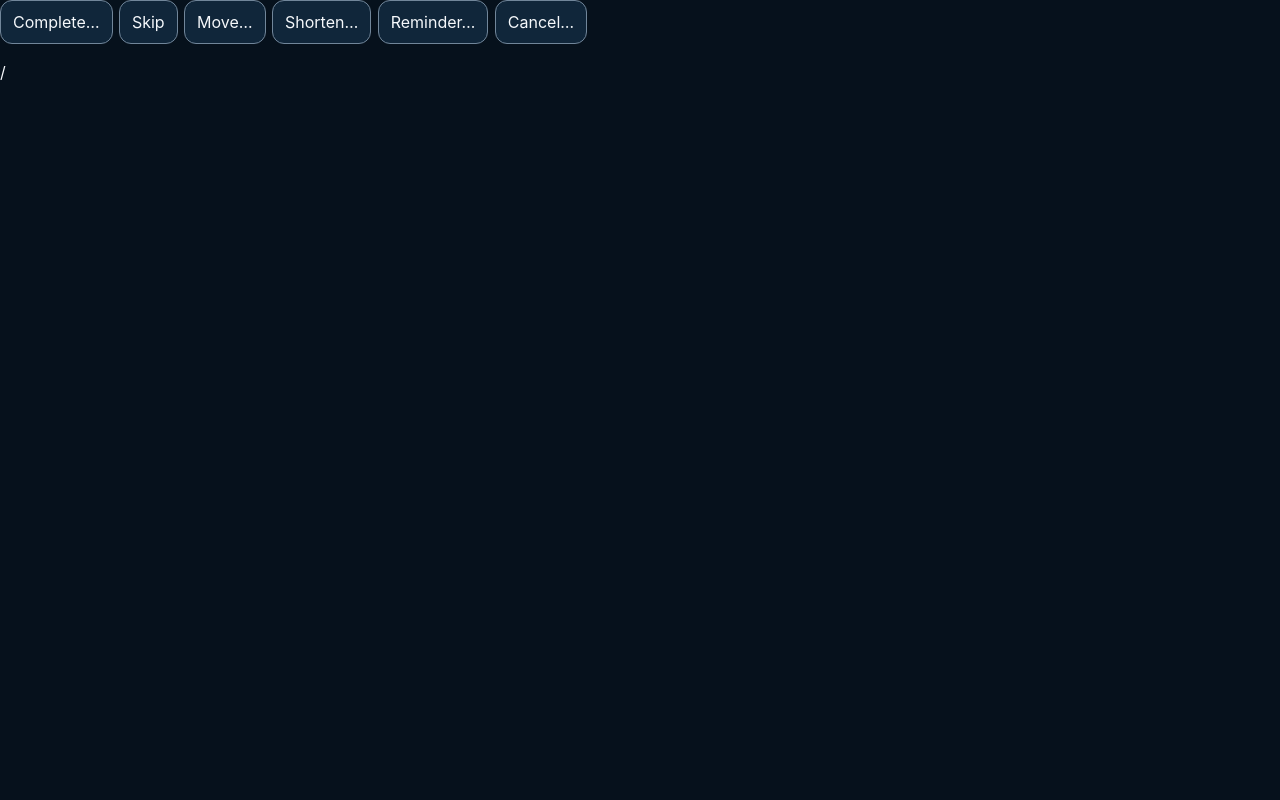
Test case: block reminder dialog › shows a recoverable error when the reminder cannot be read
This screenshot has width=1280, height=800.
Click the button named "Reminder… Write report" at (433, 22), box [378, 0, 488, 44]
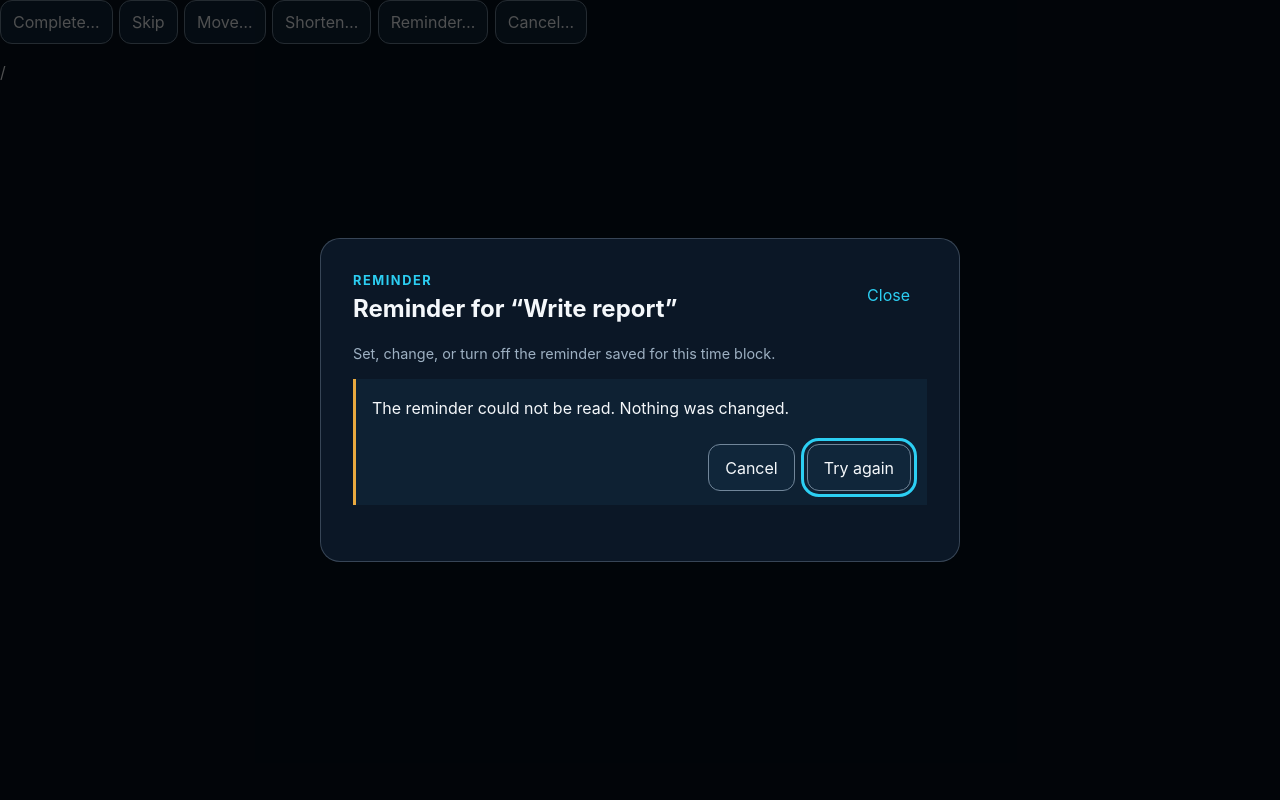
Result: the message shows "The reminder could not be read. Nothing was changed." at [372, 398, 789, 418]
Click the button "Try again" at (859, 468), box [807, 444, 911, 491]
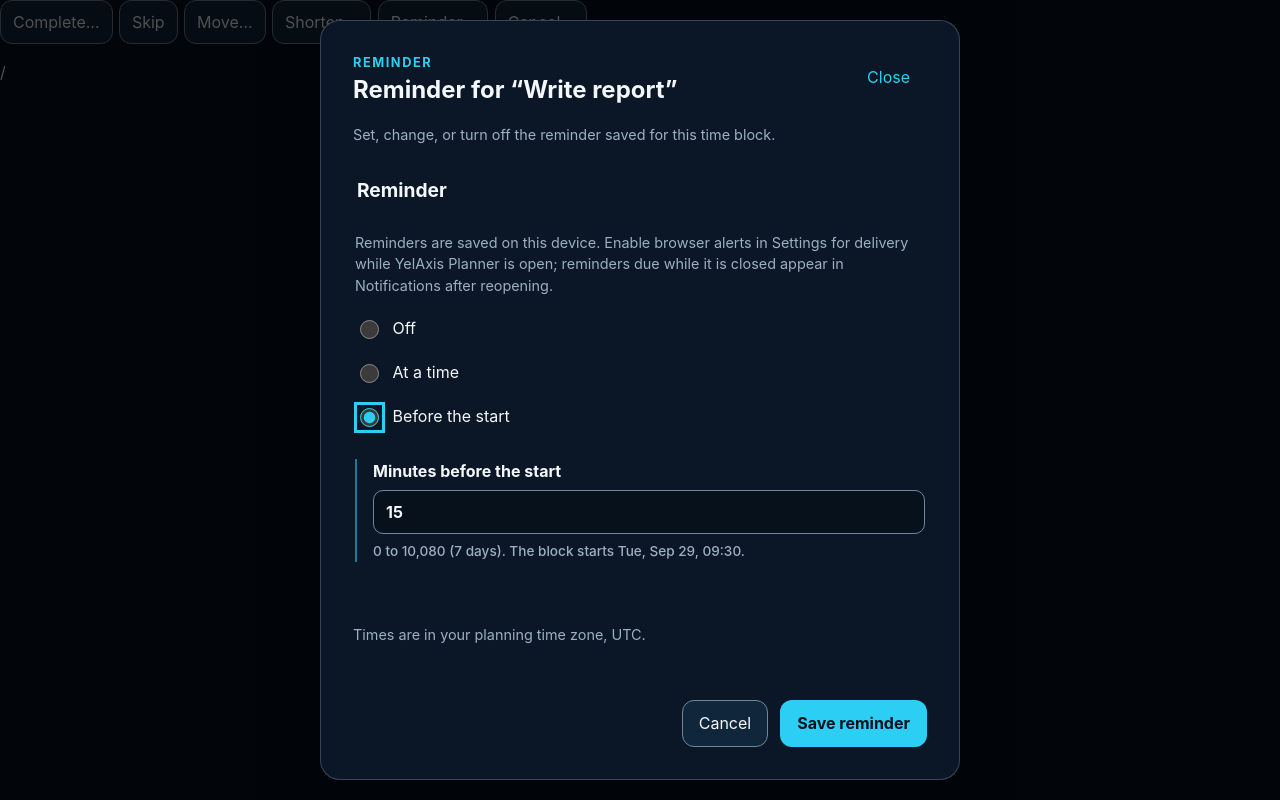
Result: the radio button labelled "Before the start" is checked at [360, 408, 379, 427]
